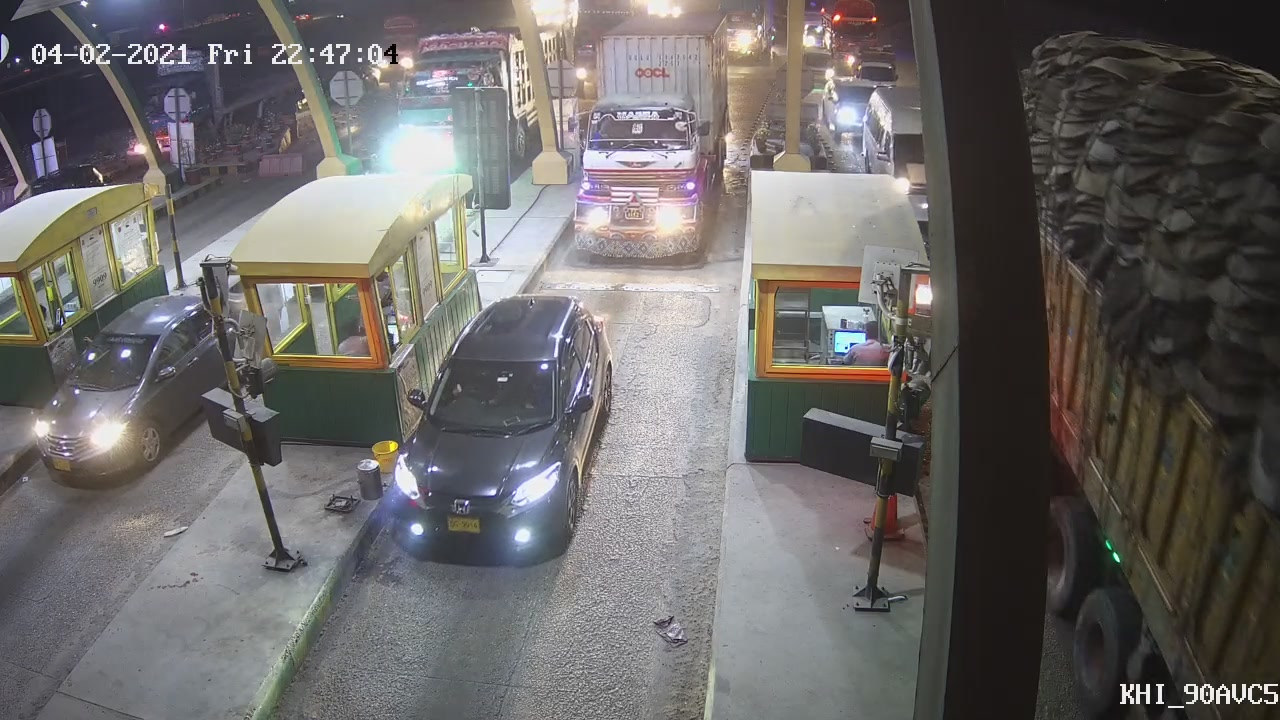F1: (392, 295, 619, 572)
F6: (575, 16, 730, 266)
